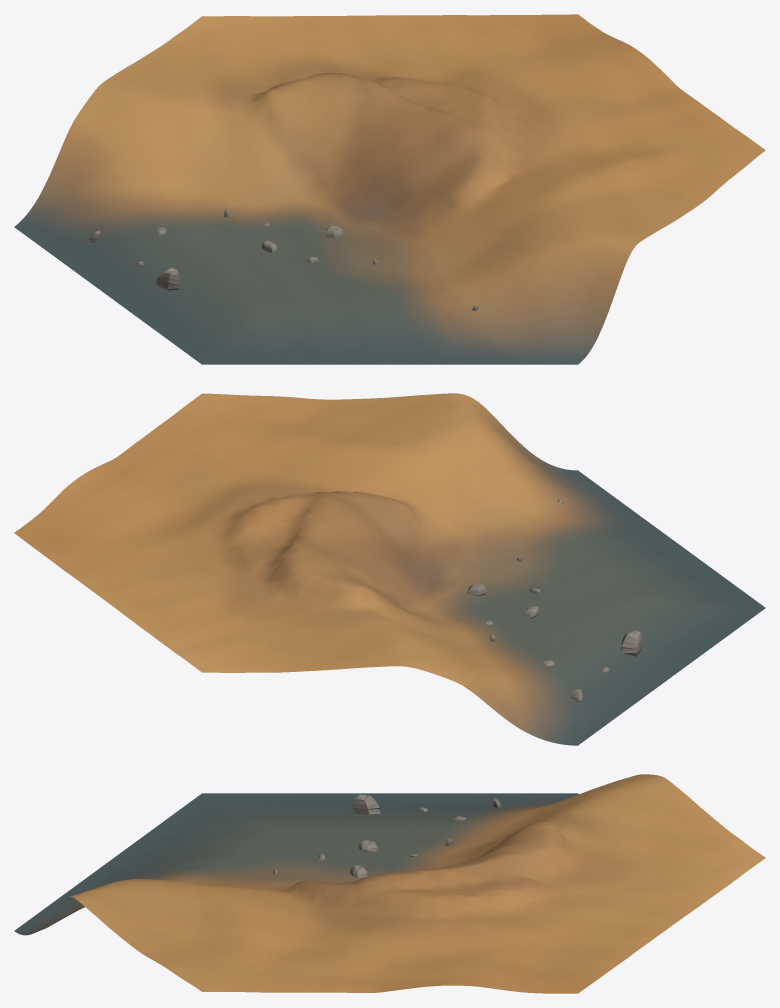
The model's file is costa_-05_+03.glb.
3 renders of one model, top to bottom at view 1: azimuth 30°, elevation 25°; view 2: azimuth 150°, elevation 25°; view 3: azimuth 270°, elevation 25°, orthographic.
Visible parts, largest first — view 1: terrain, Formações costeiras; view 2: terrain, Formações costeiras; view 3: terrain, Formações costeiras.
Part boxes in pixels (x1,y1,x2,y2): terrain: [14, 14, 765, 364]; Formações costeiras: [90, 209, 478, 310]; terrain: [14, 393, 765, 745]; Formações costeiras: [467, 498, 642, 702]; terrain: [14, 774, 765, 993]; Formações costeiras: [273, 794, 501, 877].
Size of the model in its own units: 4330 by 693 by 5000.
Materials: 1 (1 with a texture image).
